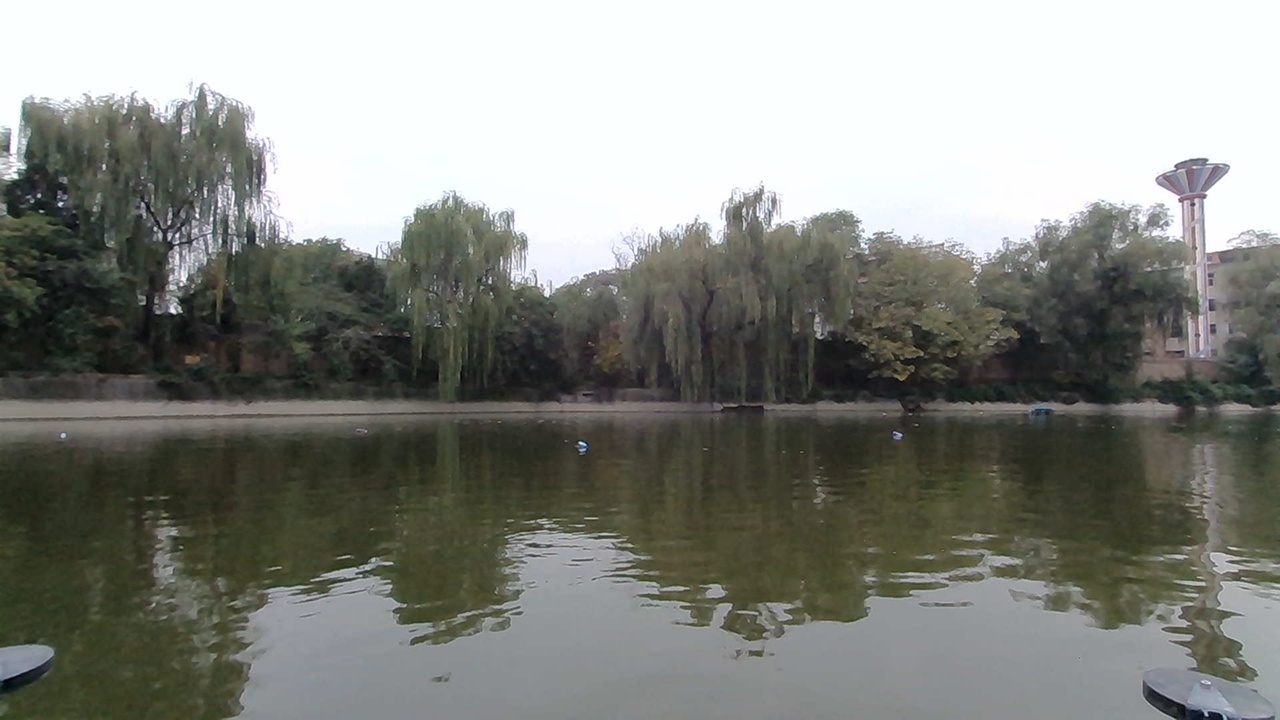bottle: (341, 415, 377, 446), (560, 431, 599, 459), (45, 420, 86, 443), (880, 423, 911, 444)
